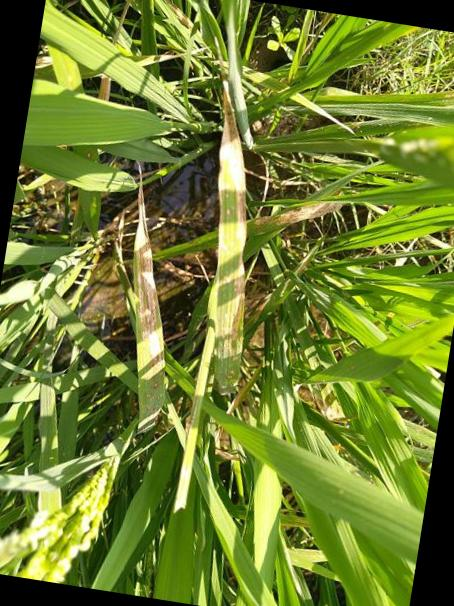Leaf Streak: (207, 76, 247, 403), (132, 163, 166, 433), (253, 201, 343, 233)
